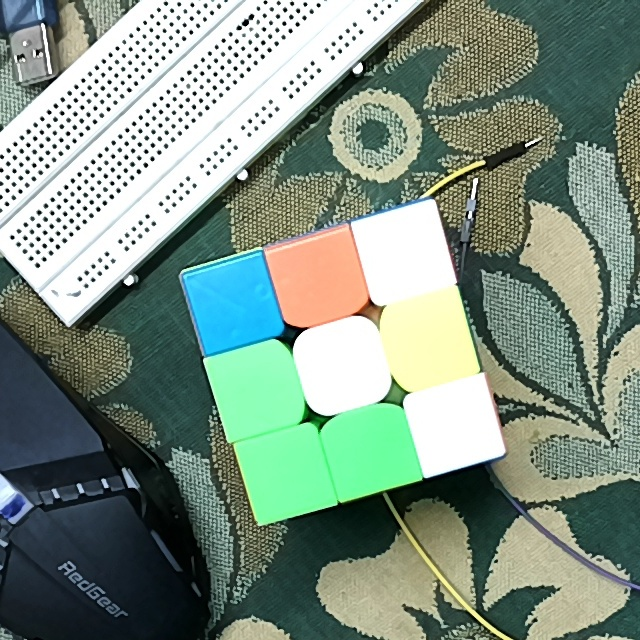tile: (309, 332, 378, 402), (398, 308, 463, 377), (372, 224, 441, 288), (224, 358, 288, 423), (338, 420, 404, 483), (289, 248, 352, 312), (258, 443, 320, 507), (422, 394, 483, 459), (202, 276, 265, 334)
